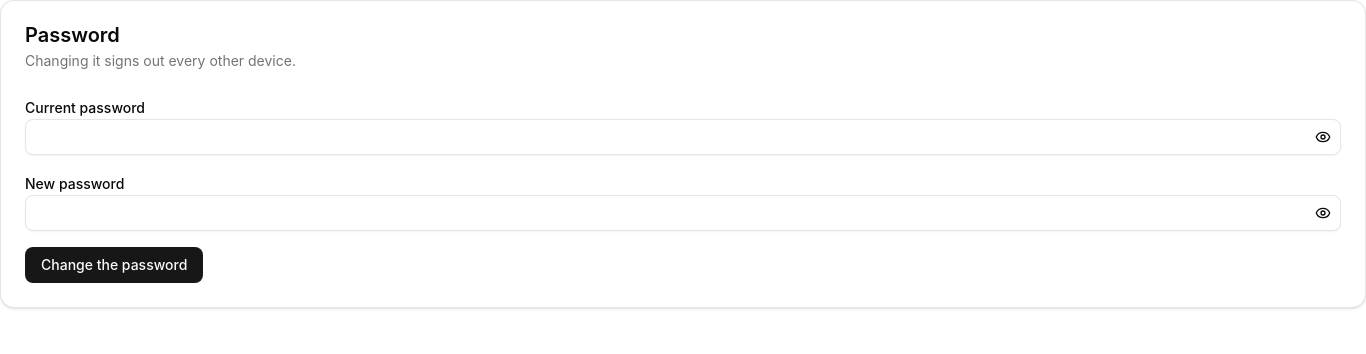
Test: shows a weak password under the new password field
Step 1. Type "old-password" into the password field labelled "Current password" → (683, 137), box x1=25 y1=119 x2=1341 y2=155
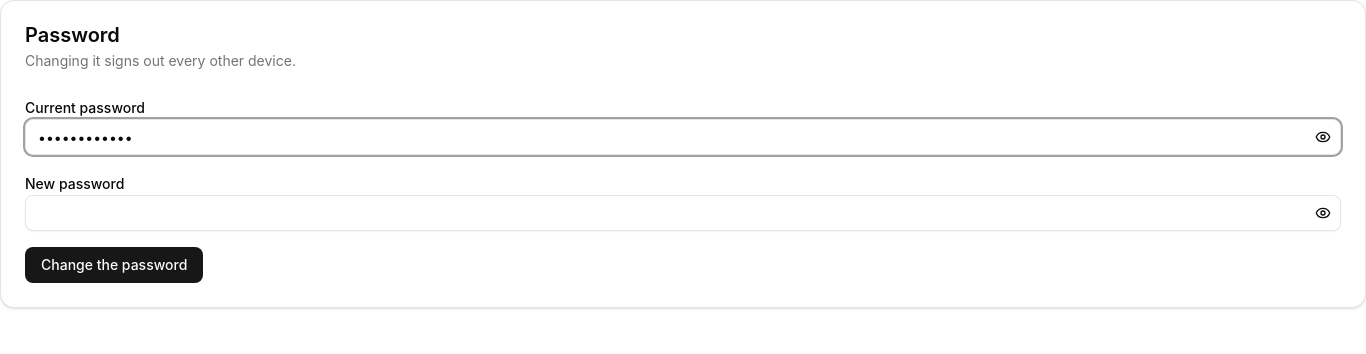
Step 2. Type "weak" into the password field labelled "New password" → (683, 213), box x1=25 y1=195 x2=1341 y2=231
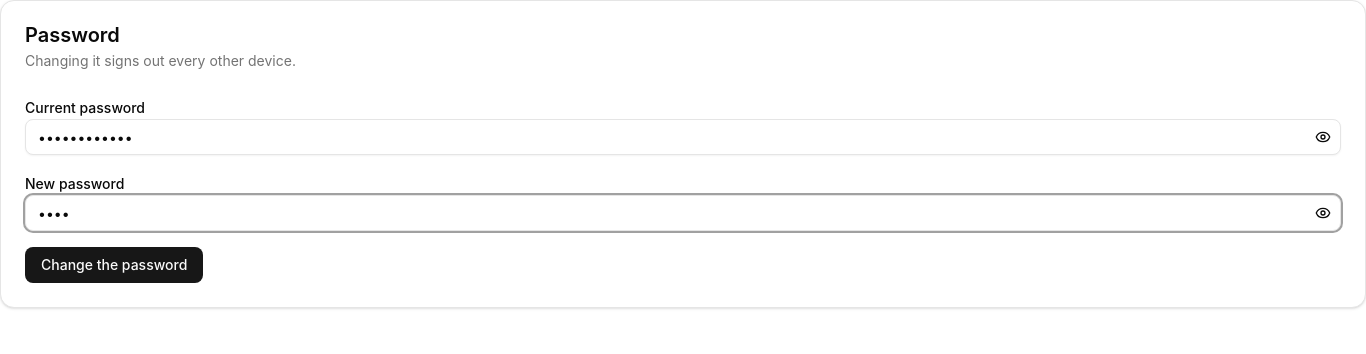
Step 3. Click the button "Change the password" → (114, 265), box x1=25 y1=247 x2=203 y2=283
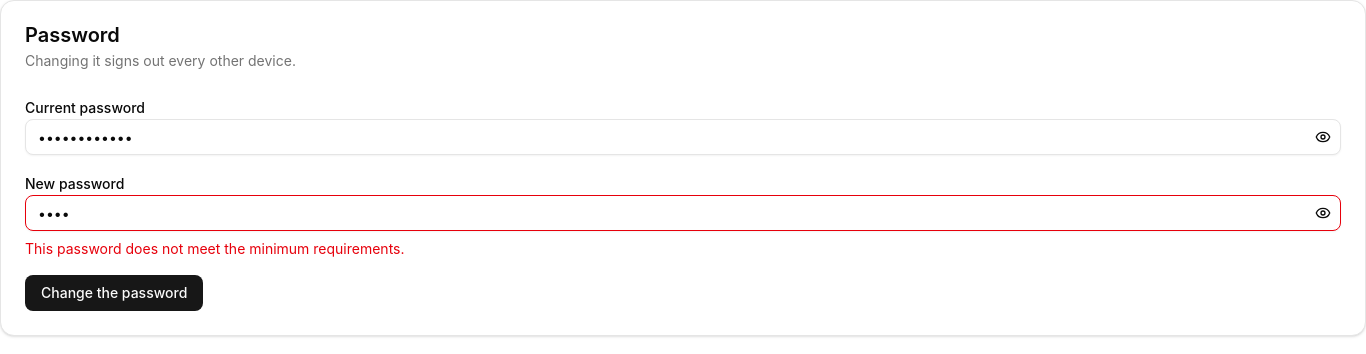
expect the text "This password does not meet the minimum requirements." is shown: met, box x1=25 y1=240 x2=404 y2=257
